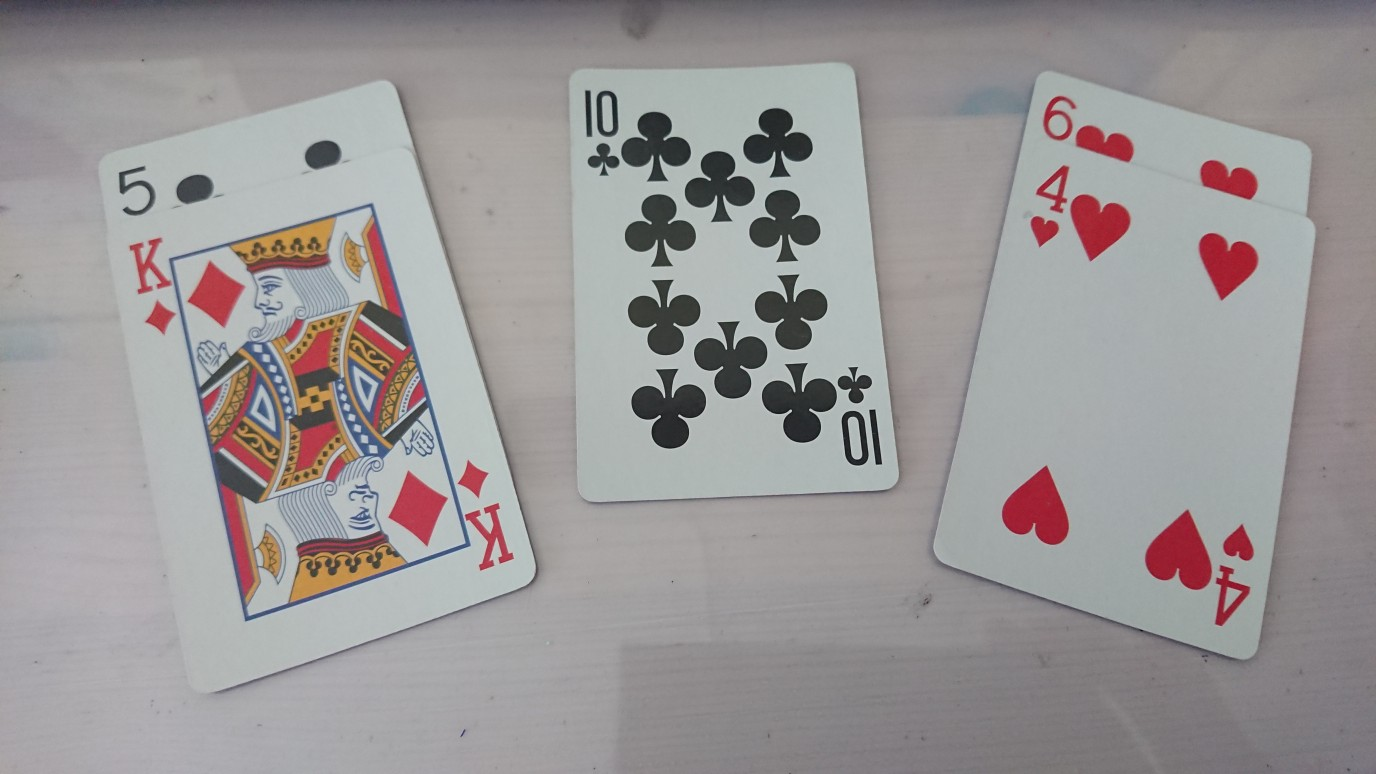10C: (580, 85, 624, 180)
4H: (1027, 160, 1074, 252)
KD: (124, 236, 181, 338)
